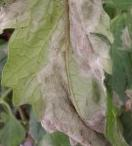Tomato leaf late blight: (0, 0, 124, 138)
